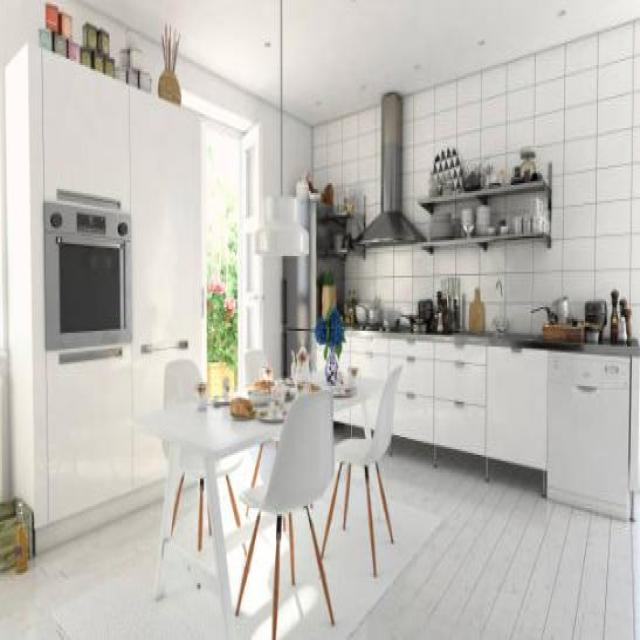dishwasher: (546, 344, 630, 520)
